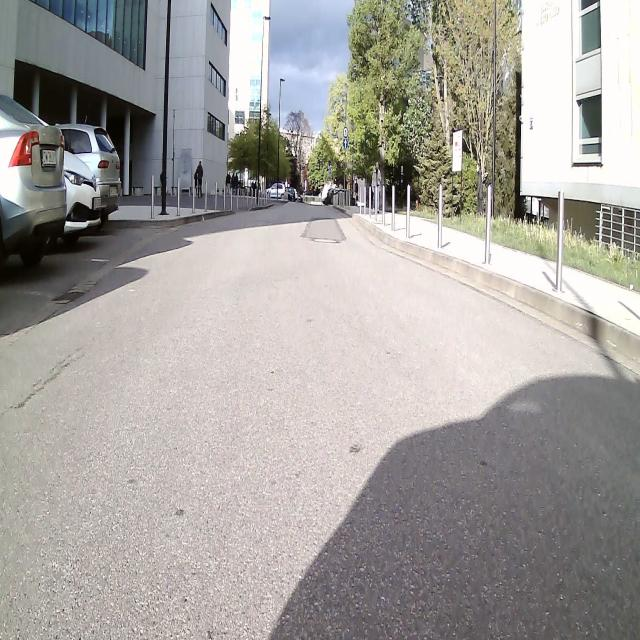bollards: (554, 186, 566, 296), (484, 182, 492, 269), (437, 181, 444, 250), (405, 182, 413, 240), (390, 182, 396, 236), (150, 172, 155, 220), (176, 174, 181, 215), (367, 186, 373, 217), (382, 184, 386, 228), (191, 179, 196, 213), (214, 181, 219, 210), (204, 180, 208, 212), (223, 182, 226, 210)
car: (0, 93, 67, 285), (54, 121, 122, 230), (64, 143, 103, 267)
person: (474, 160, 486, 220), (371, 160, 382, 214), (196, 155, 204, 201)
